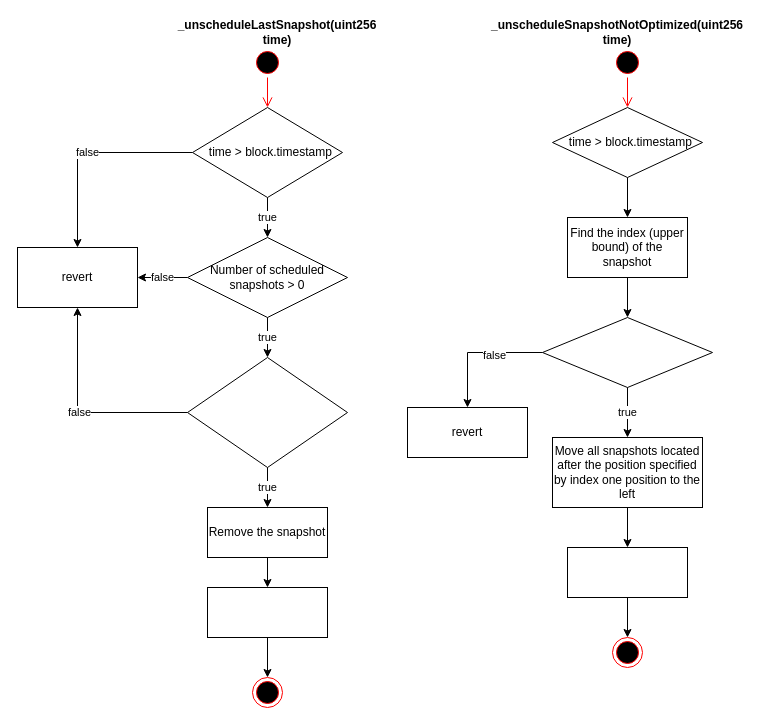
Image size: 761x725. Some labels were removed from this diagram. The shapes that lost their labels are listed below. From the top down, each one's box as (x1, y1, x2, y2) in pixels, then its label:
(542, 316, 712, 388): Snapshot exists (perfect match) ?
(186, 356, 348, 468): time == time of the last snapshot
(566, 546, 688, 598): Remove the last snapshot
(206, 586, 328, 638): Emits the event SnapshotUnschedule
